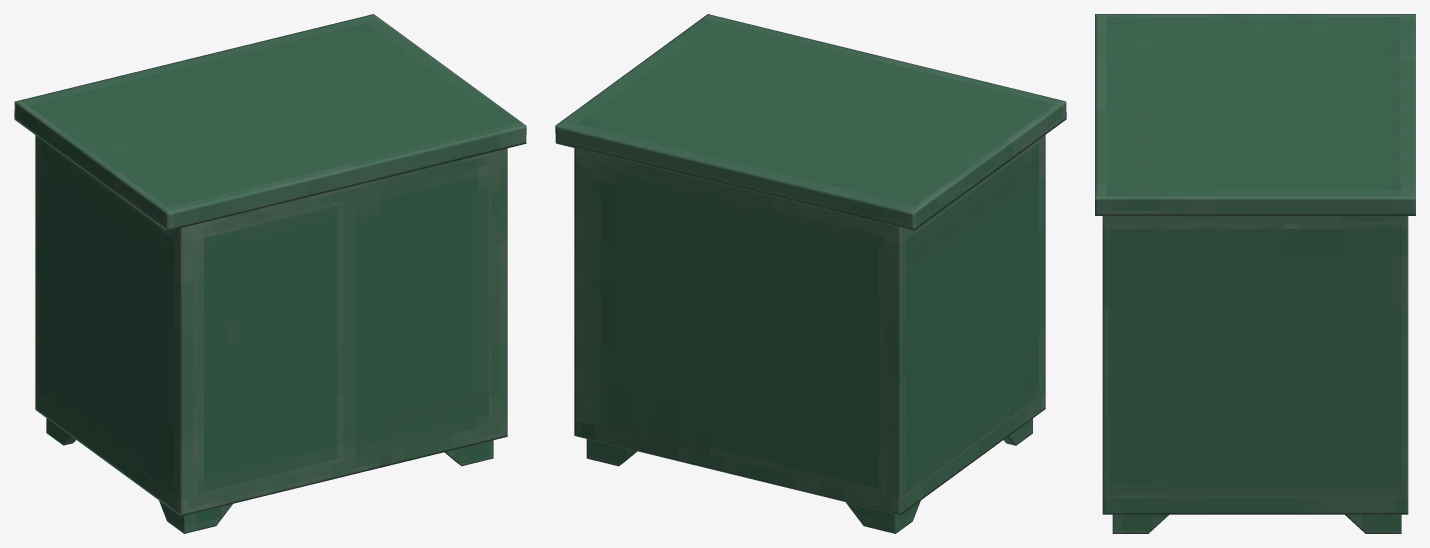
The model's file is a_com_house_a01_shelf02.gltf.
3 renders of one model, left to right at view 1: azimuth 30°, elevation 25°; view 2: azimuth 150°, elevation 25°; view 3: azimuth 270°, elevation 25°, orthographic. The views are drawn at different scales.
Visible parts, largest first — view 1: a_com_house_a01_shelf02; view 2: a_com_house_a01_shelf02; view 3: a_com_house_a01_shelf02.
Boxes of the visible parts, x1,y1,x2,y2 form: a_com_house_a01_shelf02: (14,14,526,533); a_com_house_a01_shelf02: (555,14,1066,533); a_com_house_a01_shelf02: (1095,14,1415,533).
Bounding box in the file's own units: 1.08 × 0.9507 × 0.7924.
1 material, 1 textured.
